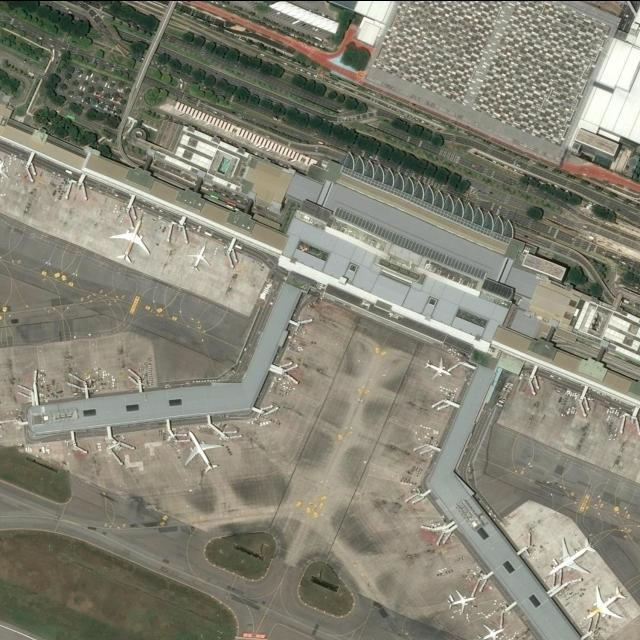Aircraft: (110, 215, 150, 263), (549, 537, 597, 575), (186, 429, 224, 473), (587, 583, 627, 619), (448, 590, 478, 612), (425, 356, 453, 378), (188, 245, 212, 269), (479, 623, 506, 640), (0, 159, 9, 185)
